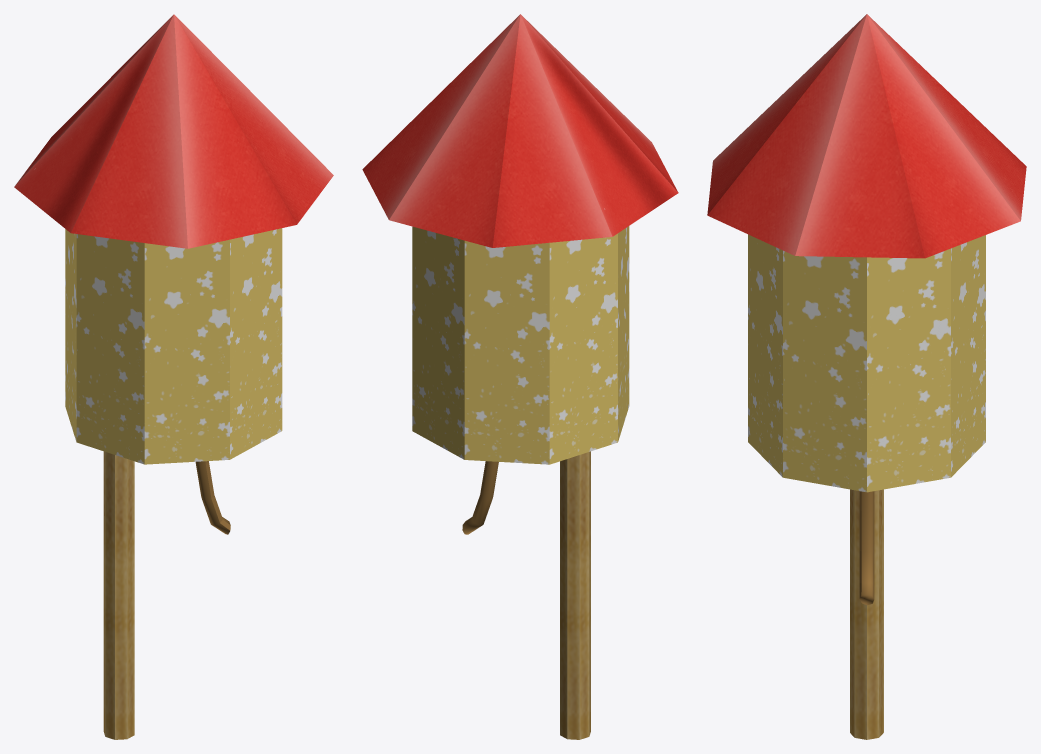
Rendered from Rocket_FW.fbx.
3 renders of one model, left to right at view 1: azimuth 30°, elevation 25°; view 2: azimuth 150°, elevation 25°; view 3: azimuth 270°, elevation 25°, orthographic. The views are drawn at different scales.
Visible parts, largest first — view 1: Rocket, Fuse; view 2: Rocket, Fuse; view 3: Rocket, Fuse.
Part boxes in pixels (x1=…): Rocket: x1=14, y1=14, x2=333, y2=739; Fuse: x1=195, y1=461, x2=230, y2=534; Rocket: x1=362, y1=14, x2=678, y2=739; Fuse: x1=462, y1=461, x2=498, y2=534; Rocket: x1=707, y1=14, x2=1026, y2=739; Fuse: x1=859, y1=491, x2=874, y2=605.
Size of the model in its own units: 188 by 485 by 188.
